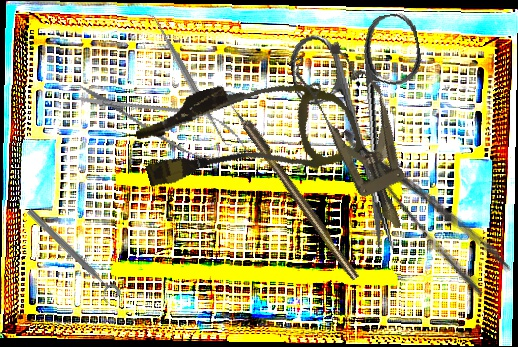Cannula: (129, 52, 365, 214)
Dressing Forceps: (338, 104, 513, 300)
Fixation Ring: (19, 205, 123, 307)
Hook Surgical: (223, 93, 360, 282)
Iris Scissors: (284, 10, 454, 262)
Micro Scissor: (67, 69, 257, 174)
Spatula Surgical: (143, 6, 234, 153)
Speculum: (286, 32, 434, 243)
